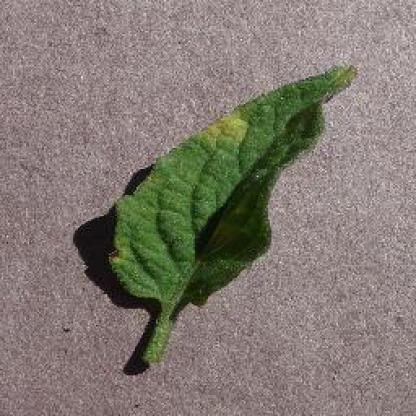bad leaf: (200, 112, 259, 180), (323, 61, 359, 101)
